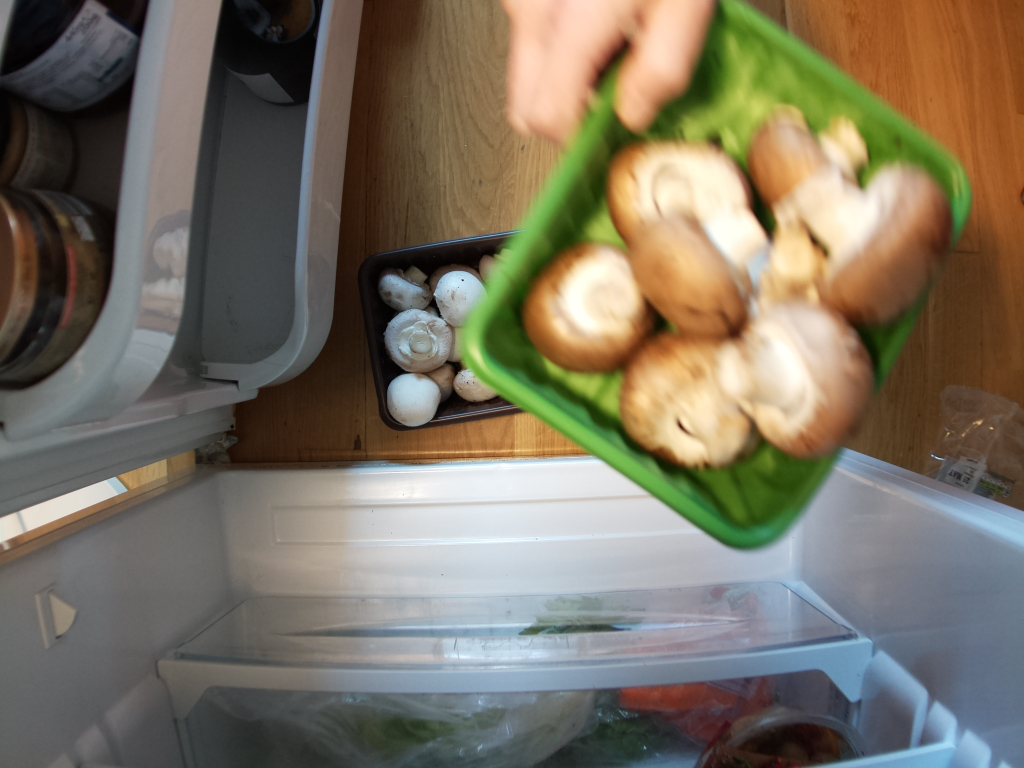mushrooms: (469, 1, 966, 523), (369, 232, 536, 425)
